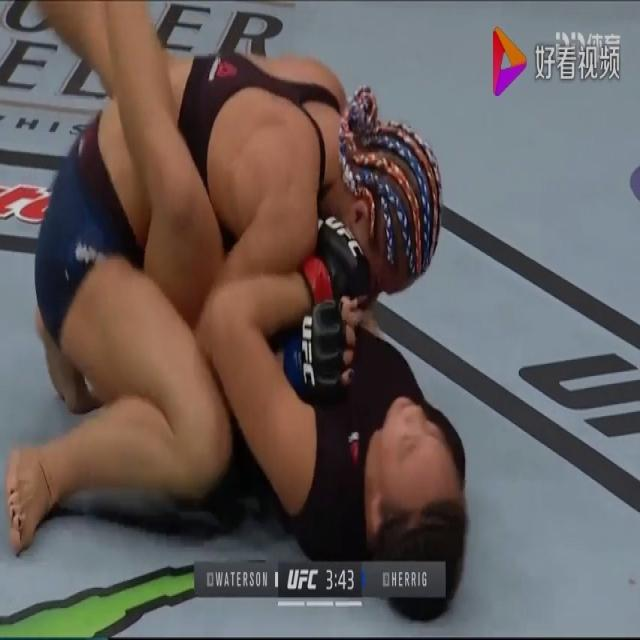fight: (4, 27, 474, 593)
